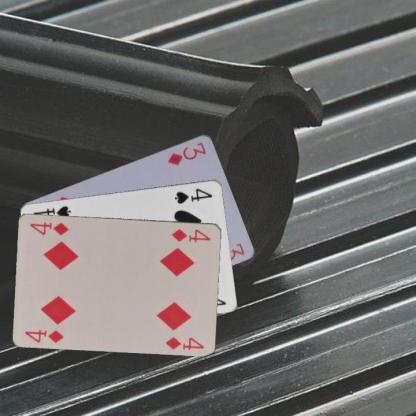3d: (166, 140, 208, 166)
4d: (22, 327, 66, 344), (169, 226, 212, 243)
4s: (172, 186, 214, 204)
